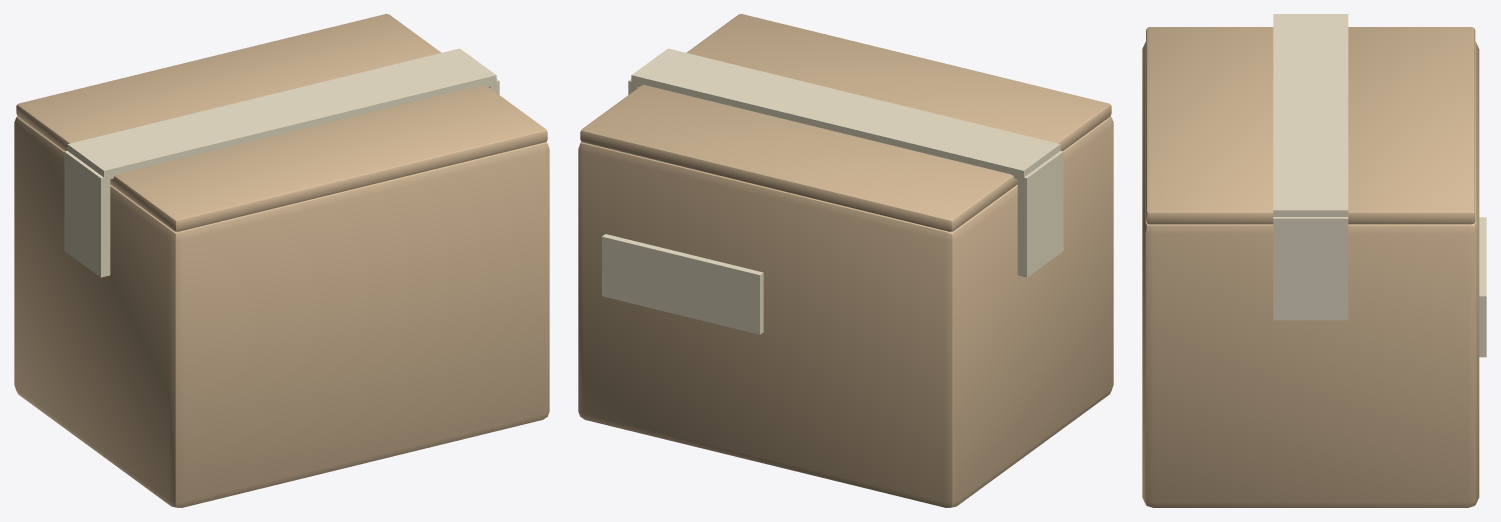
File: CarePackage.fbx
3 renders of one model, left to right at view 1: azimuth 30°, elevation 25°; view 2: azimuth 150°, elevation 25°; view 3: azimuth 270°, elevation 25°, orthographic. The views are drawn at different scales.
Visible parts, largest first — view 1: Body.008, Trim.007; view 2: Body.008, Trim.007; view 3: Body.008, Trim.007.
Boxes of the visible parts, <box> form: Body.008: <box>14,14,549,507</box>; Trim.007: <box>64,48,499,277</box>; Body.008: <box>578,14,1113,507</box>; Trim.007: <box>602,48,1063,334</box>; Body.008: <box>1142,27,1479,507</box>; Trim.007: <box>1273,14,1486,357</box>.
Bounding box in the file's own units: 1.26 × 0.9 × 0.92.
